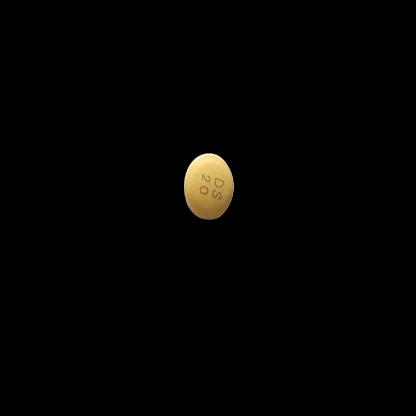rabeparzole20: (177, 142, 242, 233)
